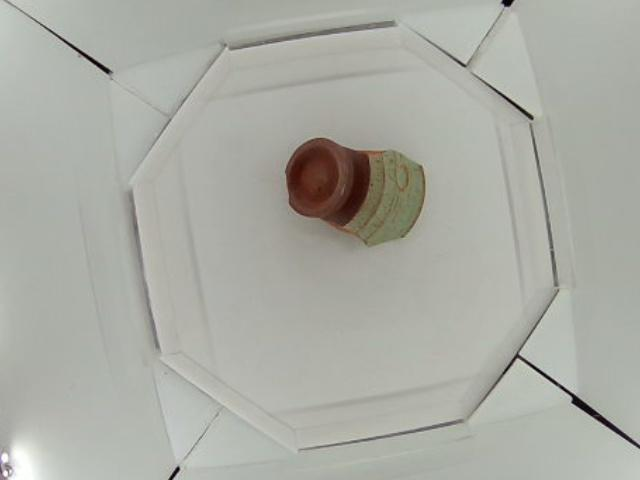China: (285, 136, 428, 248)
